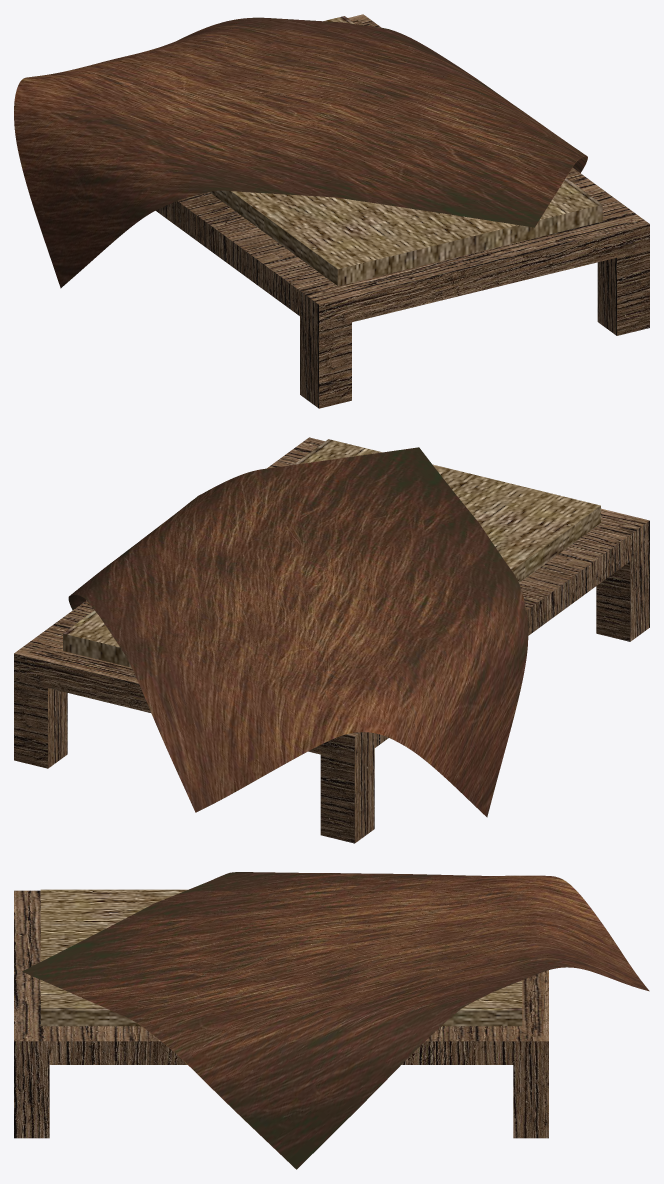
File: TableWithCloth.FBX
3 renders of one model, top to bottom at view 1: azimuth 30°, elevation 25°; view 2: azimuth 150°, elevation 25°; view 3: azimuth 270°, elevation 25°, orthographic. The views are drawn at different scales.
Visible parts, largest first — view 1: cloth1, Bed; view 2: cloth1, Bed; view 3: cloth1, Bed.
Part boxes in pixels (<box>): cloth1: <box>14,17,587,288</box>; Bed: <box>156,14,649,408</box>; cloth1: <box>68,447,528,817</box>; Bed: <box>14,437,649,843</box>; cloth1: <box>22,872,649,1169</box>; Bed: <box>14,889,548,1138</box>.
Size of the model in its own units: 13.15 by 4.45 by 17.83.
3 materials, 3 textured.
